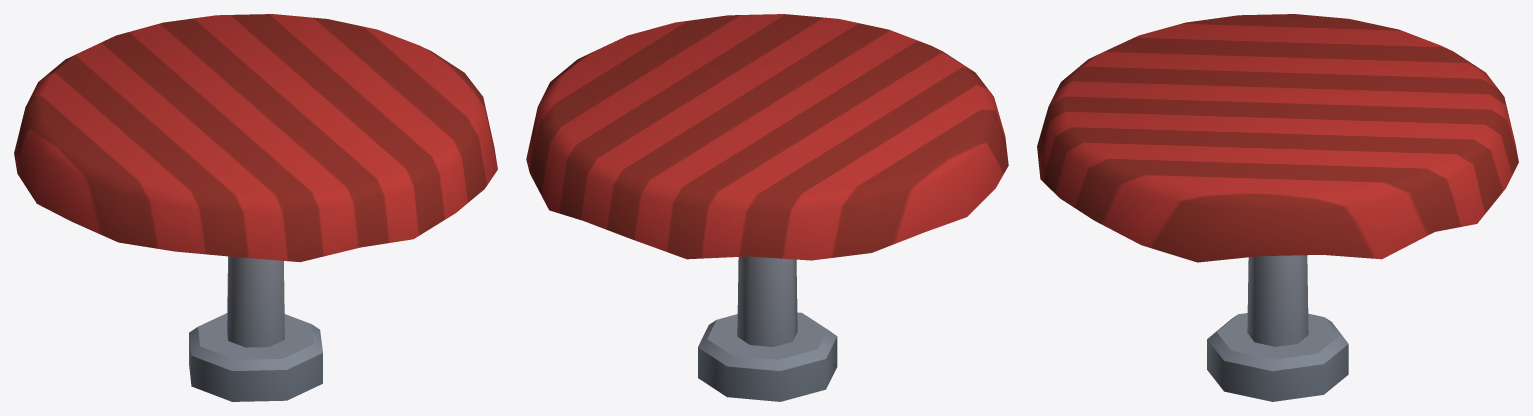
Rendered from Table_3_E.glb.
The picture shows the model from 3 angles, left to right: view 1: azimuth 30°, elevation 25°; view 2: azimuth 150°, elevation 25°; view 3: azimuth 270°, elevation 25°; orthographic projection.
Parts seen in each view (by area): view 1: Table_3_E; view 2: Table_3_E; view 3: Table_3_E.
Part boxes in pixels (box(x1,y1,x2,y2)): Table_3_E: box(14, 14, 497, 401); Table_3_E: box(526, 14, 1008, 401); Table_3_E: box(1037, 14, 1518, 401).
Size of the model in its own units: 1.31 by 0.8 by 1.31.
3 materials, 3 textured.
